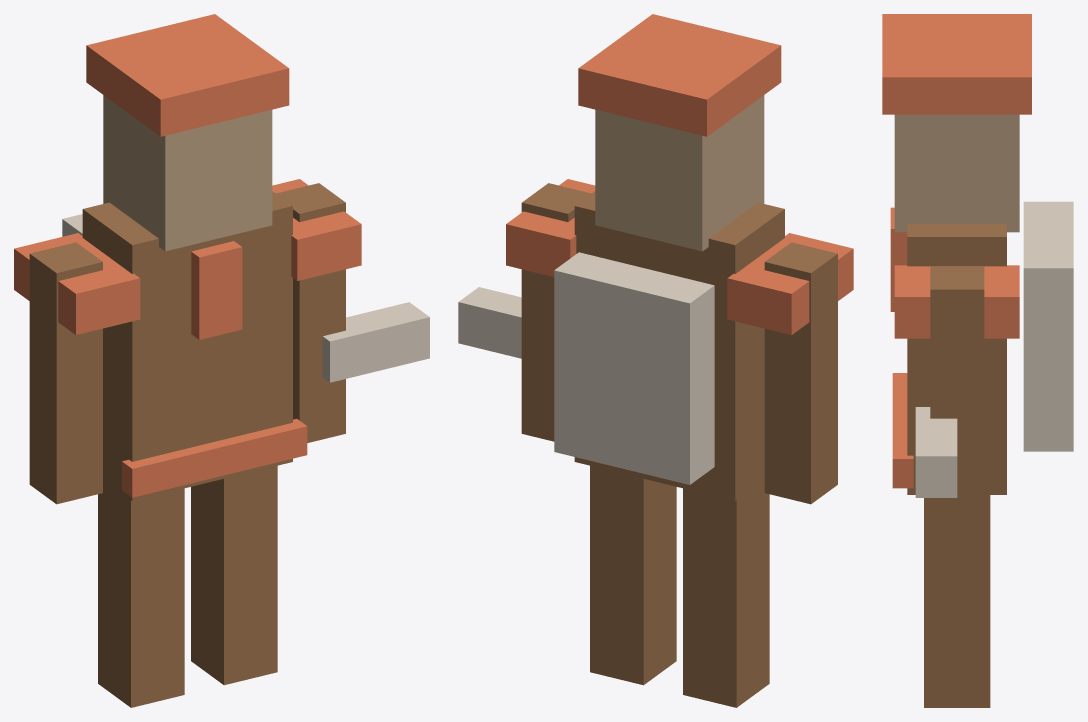
Rendered from 20_asha_cinderholt_mechanist_under_consonant.glb.
3 renders of one model, left to right at view 1: azimuth 30°, elevation 25°; view 2: azimuth 150°, elevation 25°; view 3: azimuth 270°, elevation 25°, orthographic.
Parts seen in each view (by area): view 1: Asha Cinderholt, Mechanist under Consonant; view 2: Asha Cinderholt, Mechanist under Consonant; view 3: Asha Cinderholt, Mechanist under Consonant.
Boxes of the visible parts, bbox=[...] form: Asha Cinderholt, Mechanist under Consonant: bbox=[14, 14, 429, 707]; Asha Cinderholt, Mechanist under Consonant: bbox=[458, 14, 853, 707]; Asha Cinderholt, Mechanist under Consonant: bbox=[882, 14, 1073, 707].
Bounding box in the file's own units: 0.9665 × 1.57 × 0.4337.
